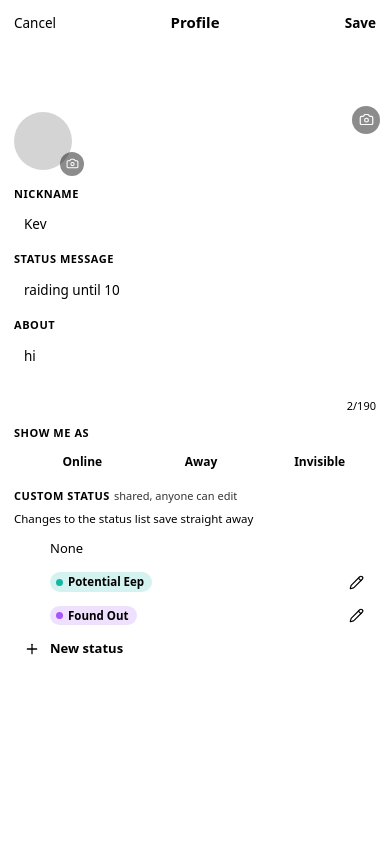
ProfileEditor › a failed update shows the error, keeps the sheet open and re-enables Save
This screenshot has width=390, height=844.
Click the button "Save" at {"x": 360, "y": 23}, box [345, 13, 376, 33]
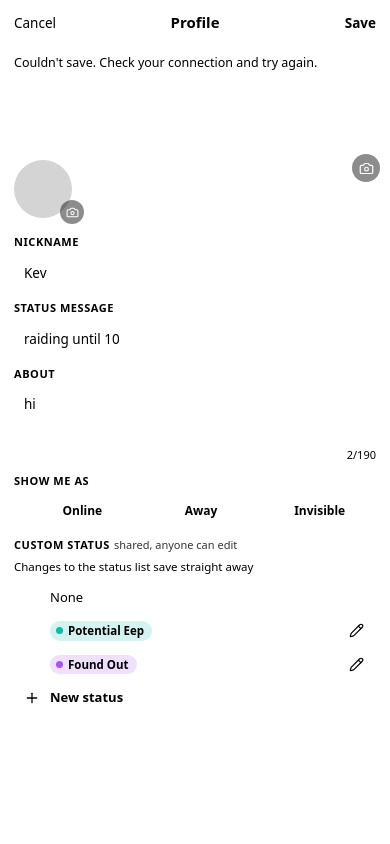
Expected: the text "Couldn't save. Check your connection and try again." is shown, [14, 54, 317, 71]
